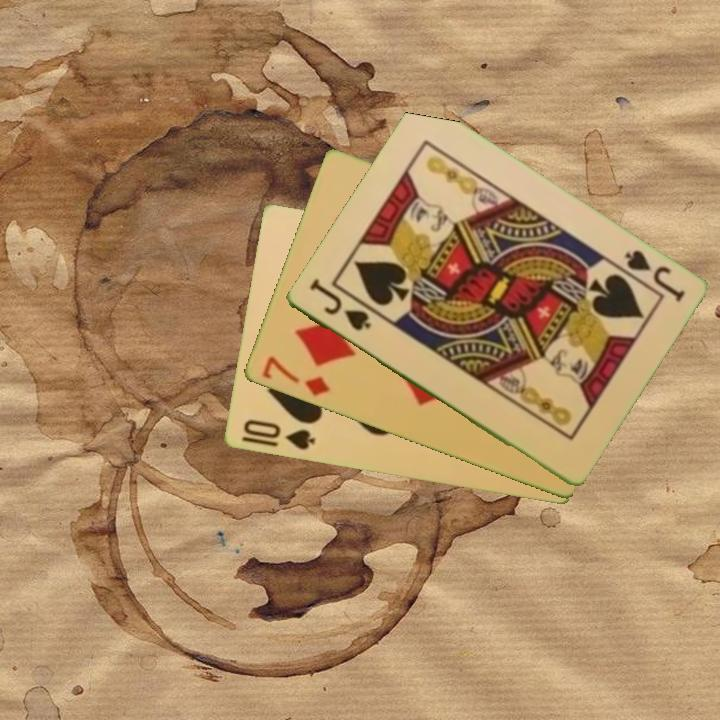10s: (239, 416, 318, 453)
7d: (258, 352, 332, 399)
Js: (620, 246, 688, 305), (305, 277, 374, 334)
